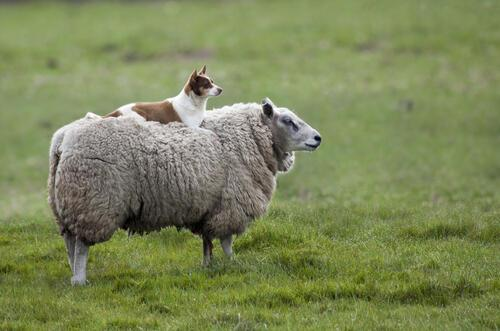sheep: (46, 97, 322, 287)
